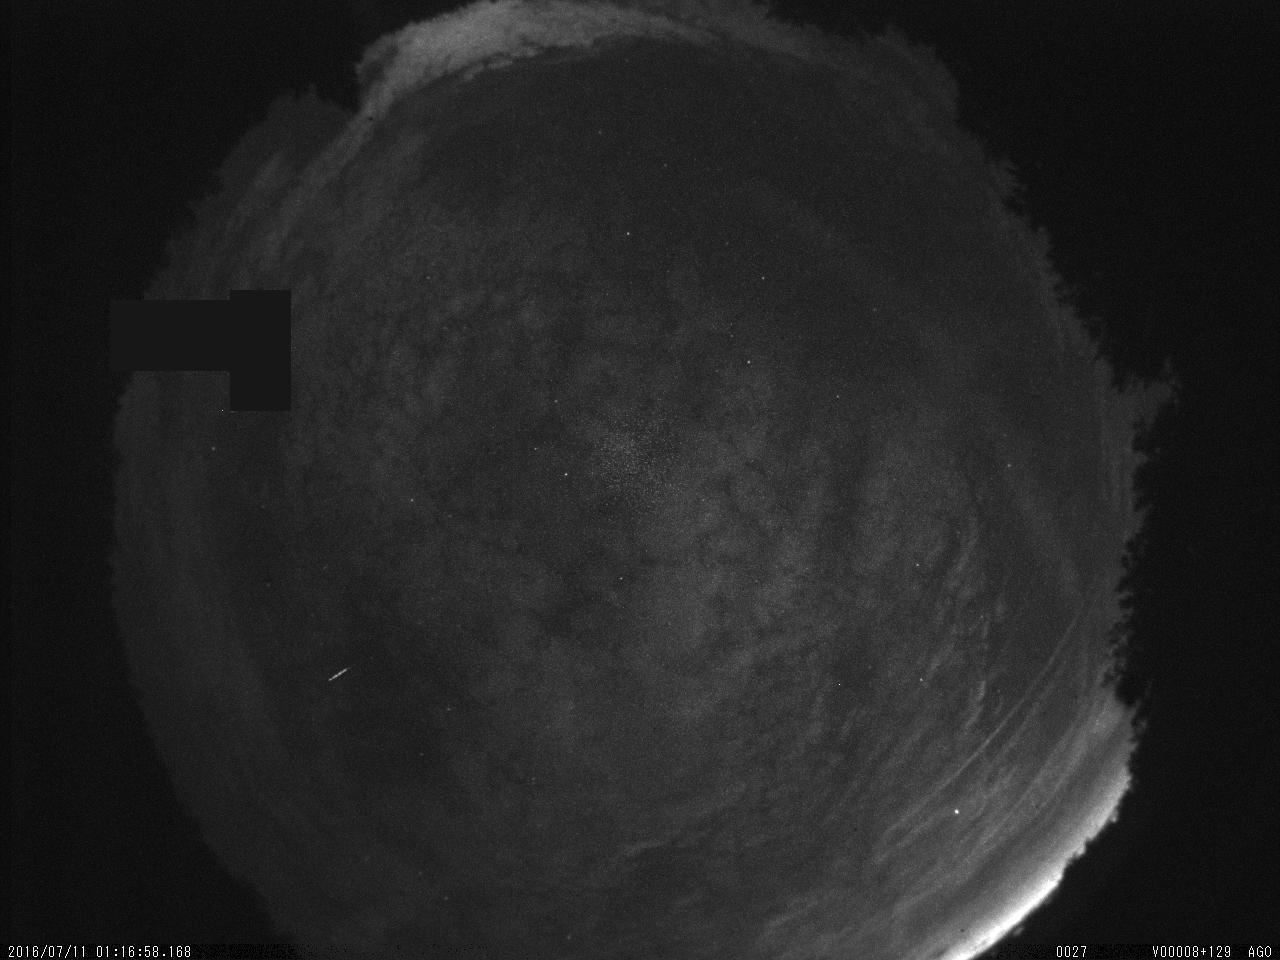meteor: (323, 658, 356, 695)
